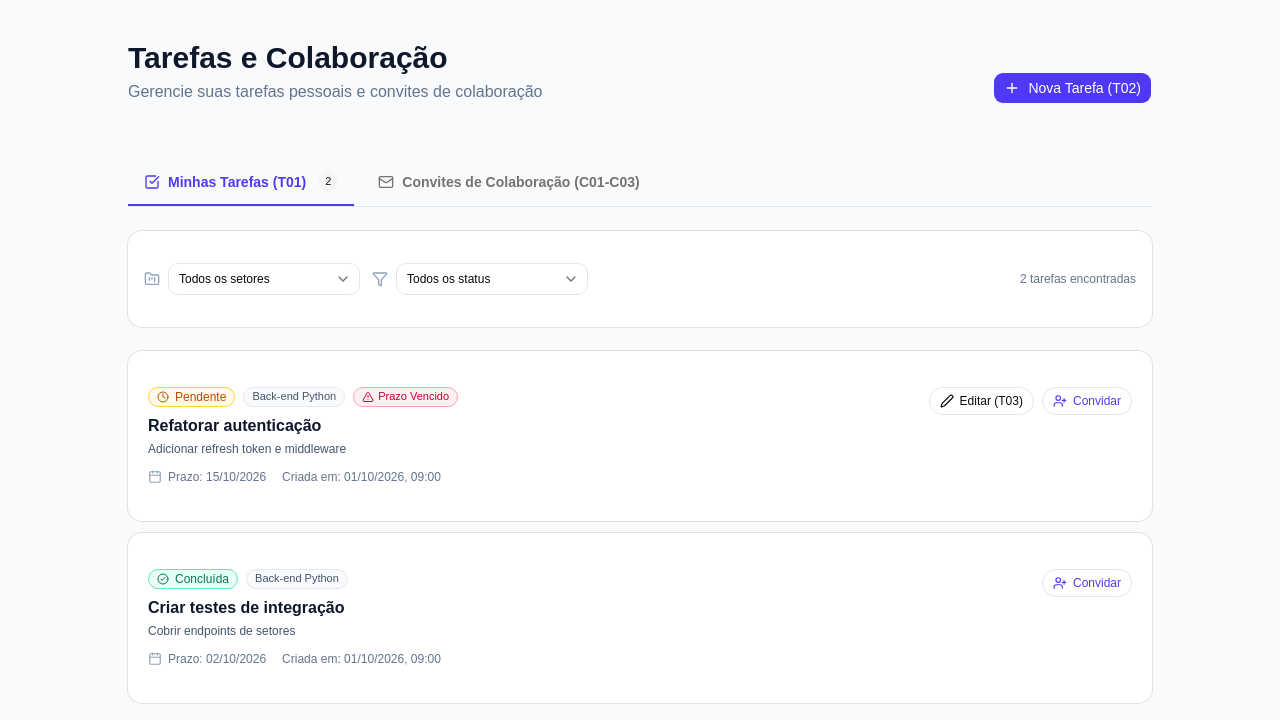
Test: MyTasks Page › exibe aviso e desabilita criação quando o membro não pertence a nenhum setor
This screenshot has width=1280, height=720.
Check: the heading "Refatorar autenticação" is shown, box [148,417,321,434]
What coordinates should you click on to do the following:
click the button "Nova Tarefa (T02)"
I would click on:
 (1073, 88)
Its box is [993,72,1152,104].
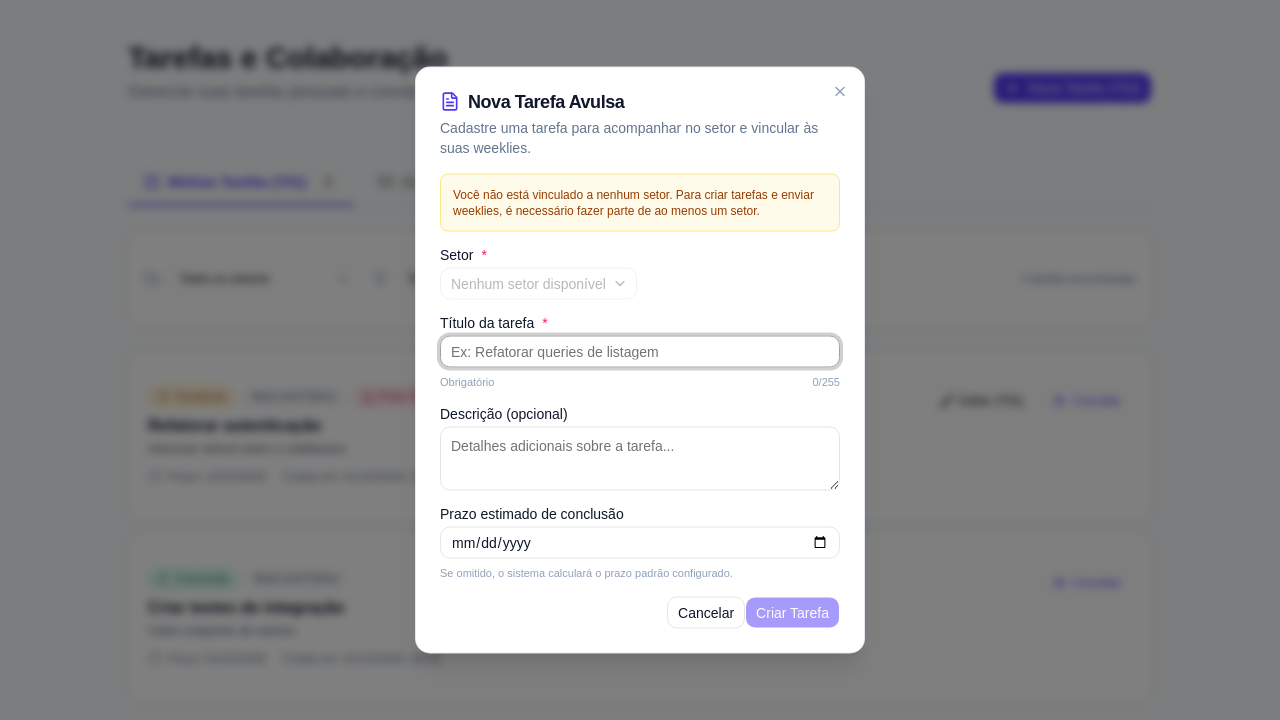
Check: the heading "Nova Tarefa Avulsa" is shown, box [440,92,624,112]
Check: the text "Você não está vinculado a nenhum setor" is shown, box [453,188,814,218]
Check: the button "Criar Tarefa" is disabled, box [745,596,840,628]
